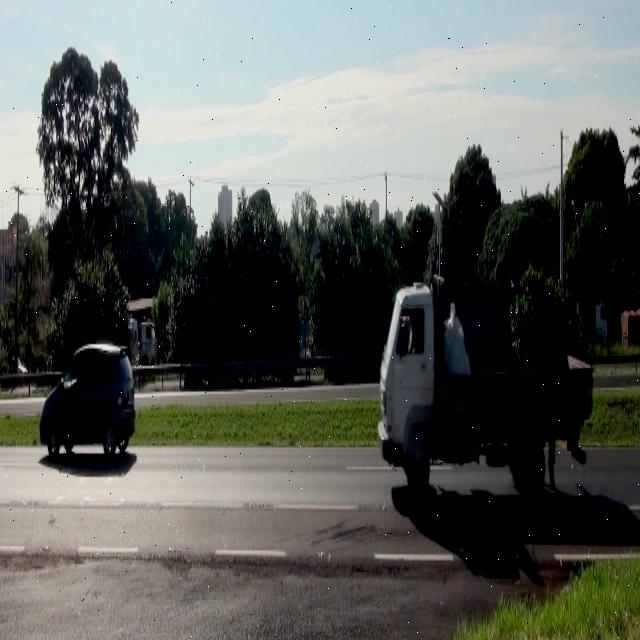-axle: (407, 429, 430, 495), (519, 437, 544, 491)
